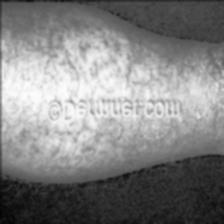Non-Cancerous Skin Condition: (0, 42, 224, 86), (0, 124, 152, 164), (196, 100, 224, 150)
